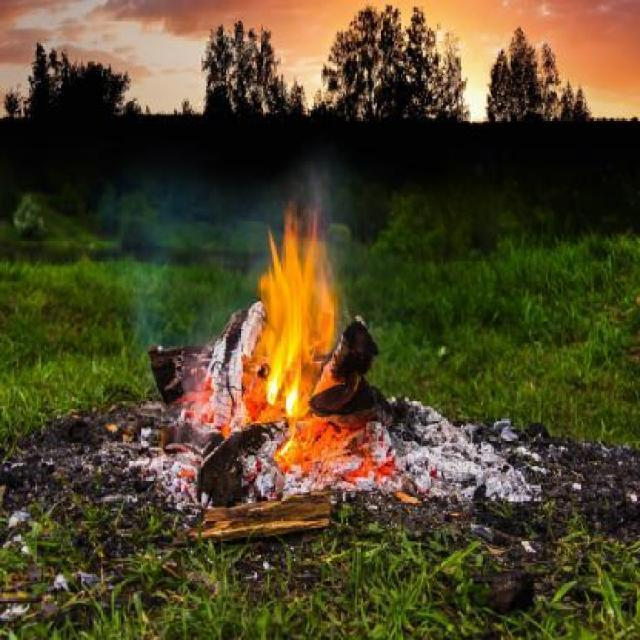Fire: (246, 198, 338, 416)
